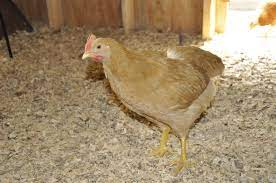buff: (81, 28, 210, 126)
